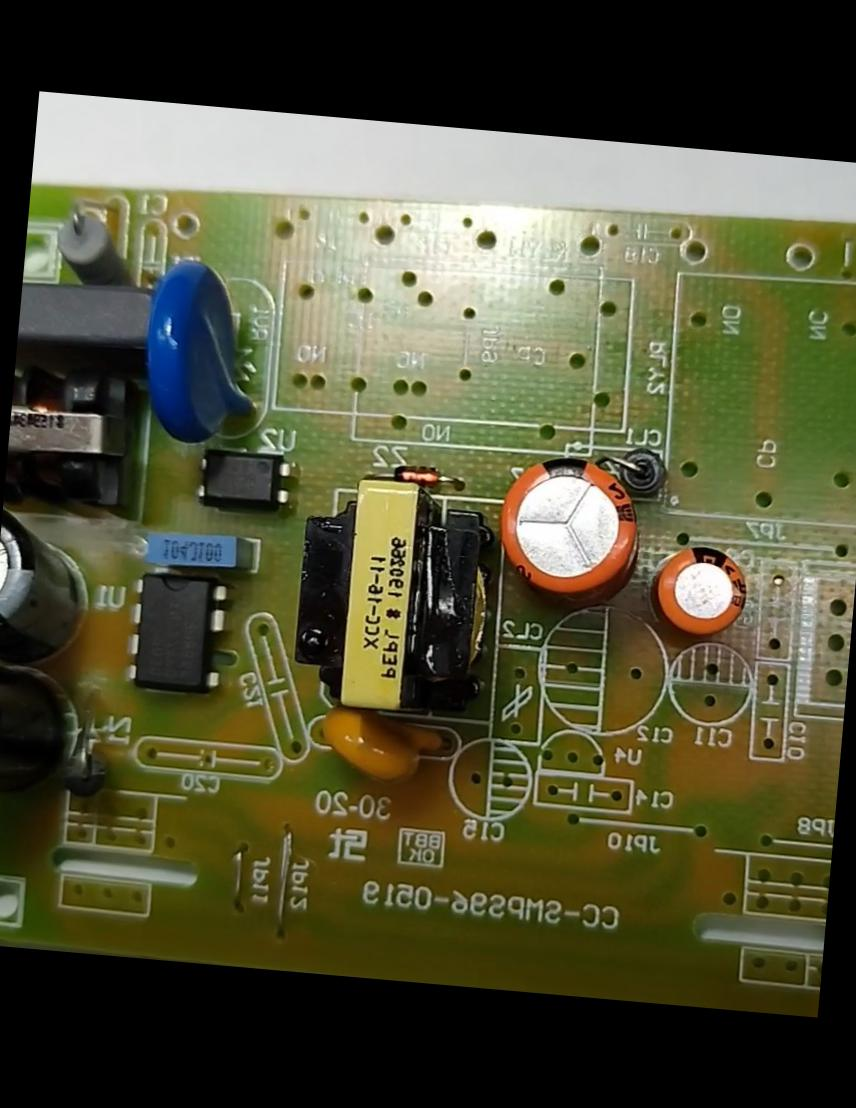Cap1: (486, 438, 652, 610)
Cap2: (642, 534, 755, 642)
Cap3: (0, 496, 107, 658)
Cap4: (0, 653, 88, 807)
MOSFET: (113, 563, 238, 701)
Mov: (132, 252, 272, 447)
Resistor: (46, 196, 150, 290)
Transformer: (284, 466, 506, 724), (2, 354, 149, 524)
